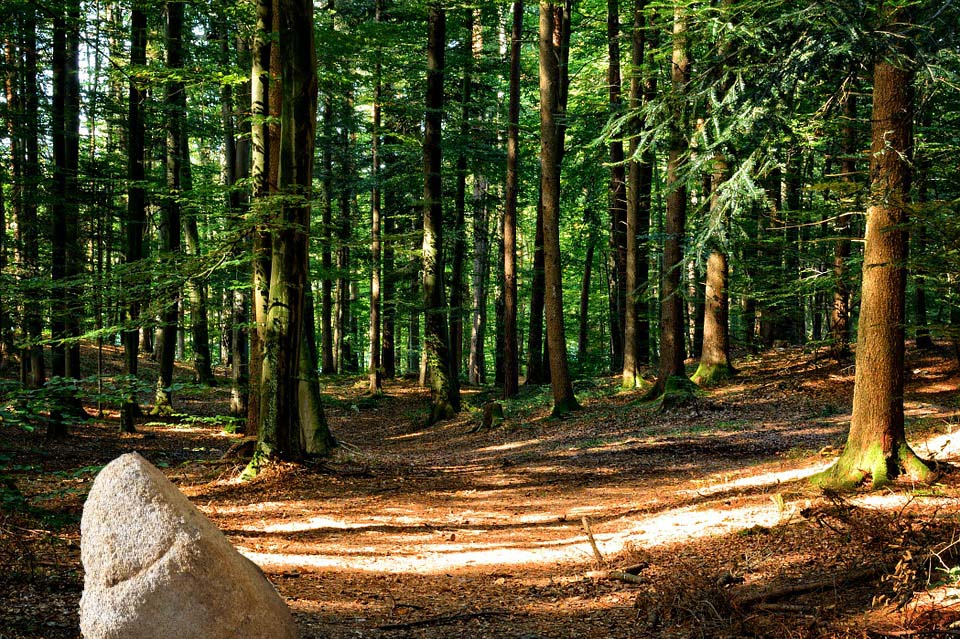Rocks: (73, 435, 295, 639)
